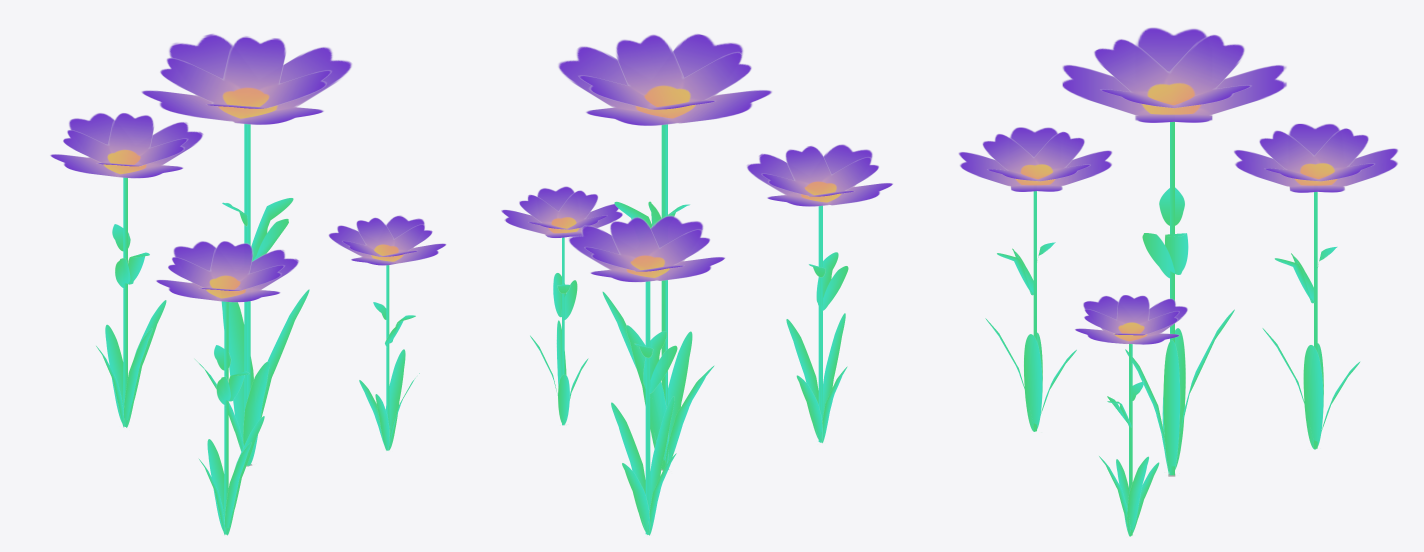
File: Flower_n_05.glb
The picture shows the model from 3 angles, left to right: view 1: azimuth 30°, elevation 25°; view 2: azimuth 150°, elevation 25°; view 3: azimuth 270°, elevation 25°; orthographic projection. The views are drawn at different scales.
Parts seen in each view (by area): view 1: polySurface300; view 2: polySurface300; view 3: polySurface300.
Boxes of the visible parts, left/top/right/bottom form: polySurface300: left=50, top=33, right=446, bottom=535; polySurface300: left=501, top=33, right=893, bottom=535; polySurface300: left=958, top=27, right=1398, bottom=536.
Size of the model in its own units: 0.5885 by 0.632 by 0.6433.
Materials: 2 (1 with a texture image).
